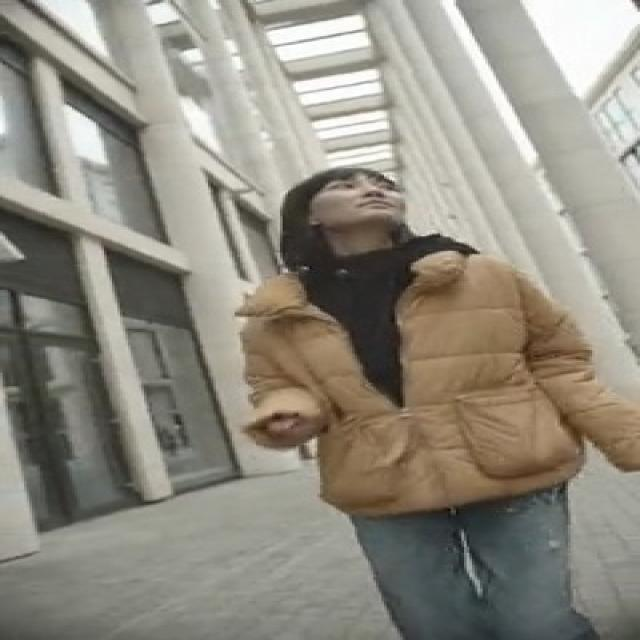Jacket_Wearer: (208, 247, 640, 486)
Person: (245, 167, 640, 640)
